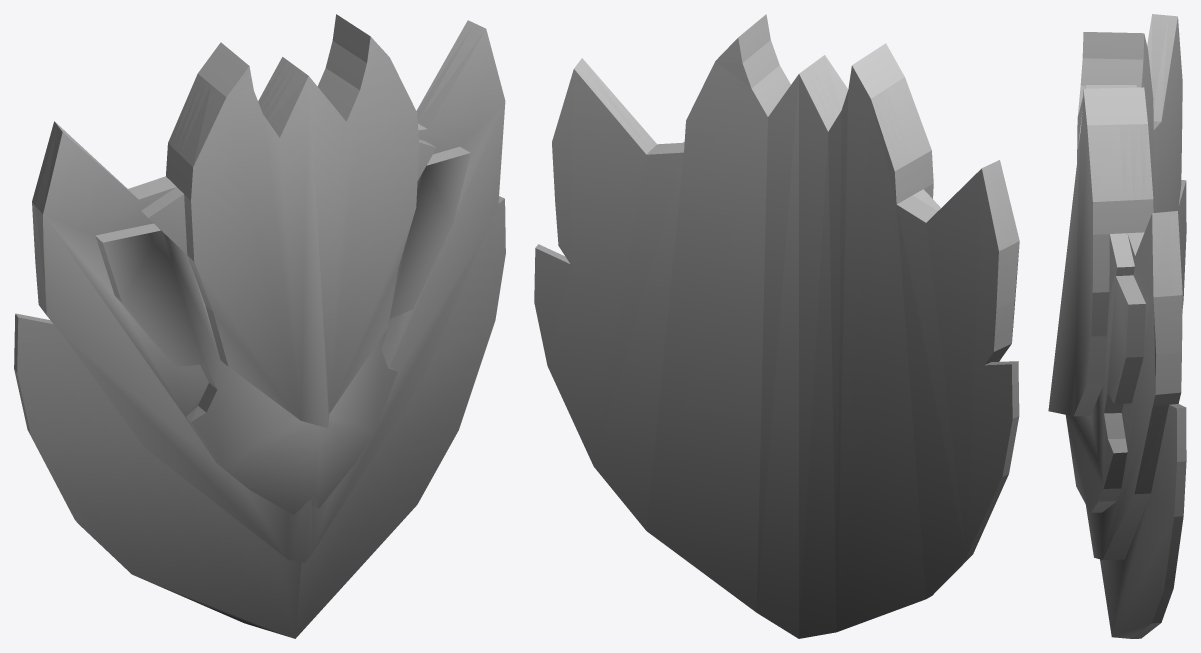
Rendered from WolfShield.FBX.
The picture shows the model from 3 angles, left to right: view 1: azimuth 30°, elevation 25°; view 2: azimuth 150°, elevation 25°; view 3: azimuth 270°, elevation 25°; orthographic projection. The views are drawn at different scales.
Parts seen in each view (by area): view 1: WolfShield; view 2: WolfShield; view 3: WolfShield.
Part boxes in pixels (bbox=[...]): WolfShield: bbox=[14, 14, 505, 638]; WolfShield: bbox=[534, 14, 1019, 638]; WolfShield: bbox=[1048, 14, 1186, 638].
Size of the model in its own units: 99.29 by 116 by 25.21.
